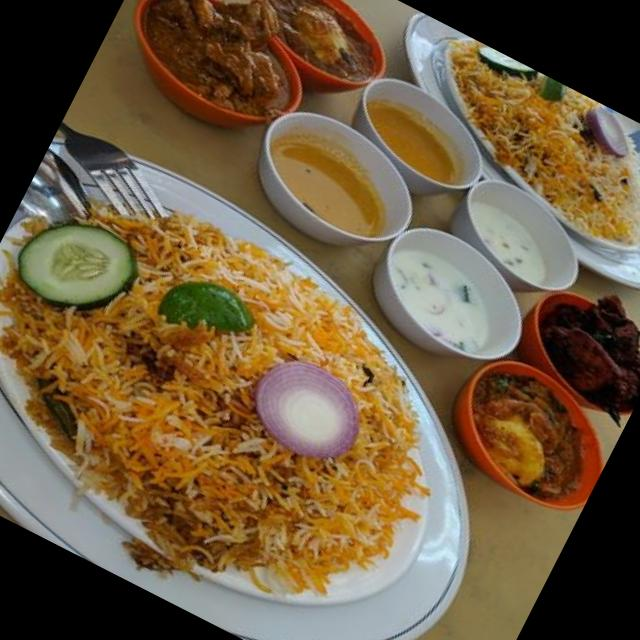Biryani: (0, 150, 493, 640)
